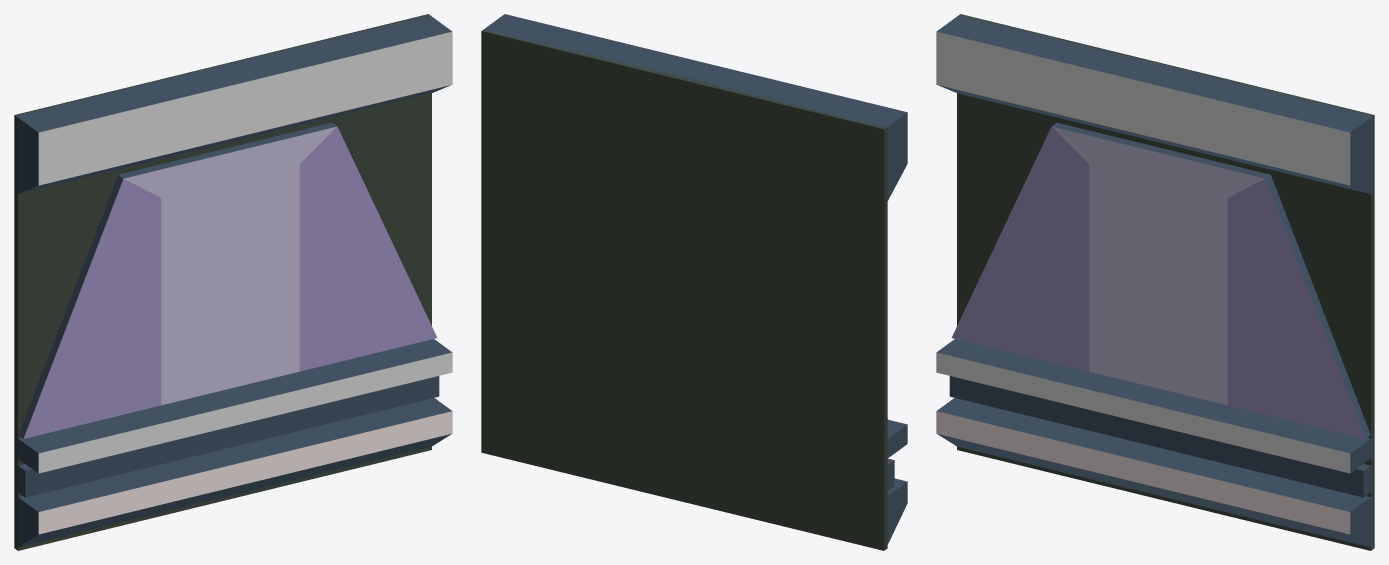
File: Environment_Wall_4.fbx
3 views of the same model, side by side, from view 1: azimuth 30°, elevation 25°; view 2: azimuth 150°, elevation 25°; view 3: azimuth 330°, elevation 25° (orthographic). The views are drawn at different scales.
Visible parts, largest first — view 1: Wall_4; view 2: Wall_4; view 3: Wall_4.
Boxes of the visible parts, left/top/right/bottom form: Wall_4: left=14, top=14, right=452, bottom=550; Wall_4: left=481, top=14, right=907, bottom=550; Wall_4: left=936, top=14, right=1374, bottom=550.
Size of the model in its own units: 400 by 400 by 40.27.
